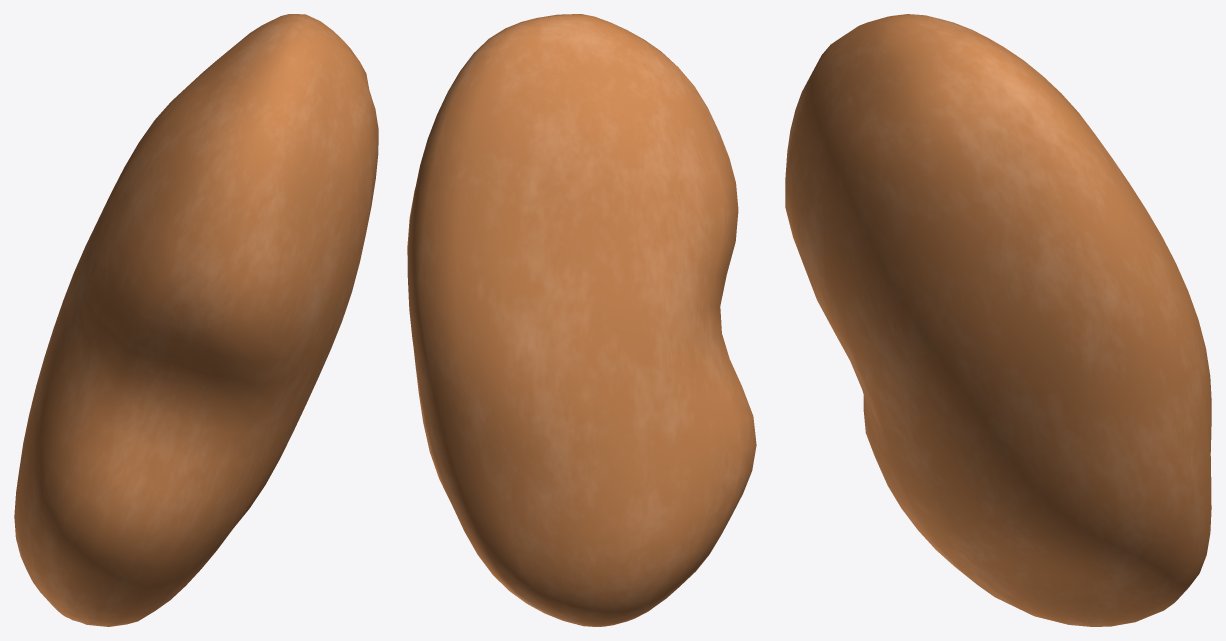
File: beans.glb
3 views of the same model, side by side, from view 1: azimuth 30°, elevation 25°; view 2: azimuth 150°, elevation 25°; view 3: azimuth 270°, elevation 25° (orthographic). The views are drawn at different scales.
Visible parts, largest first — view 1: beans.001; view 2: beans.001; view 3: beans.001.
Boxes of the visible parts, x1=… form: beans.001: x1=14, y1=14, x2=378, y2=626; beans.001: x1=407, y1=14, x2=756, y2=626; beans.001: x1=785, y1=14, x2=1211, y2=626.
Bounding box in the file's own units: 0.5557 × 0.9794 × 0.5745.
1 material, 1 textured.
